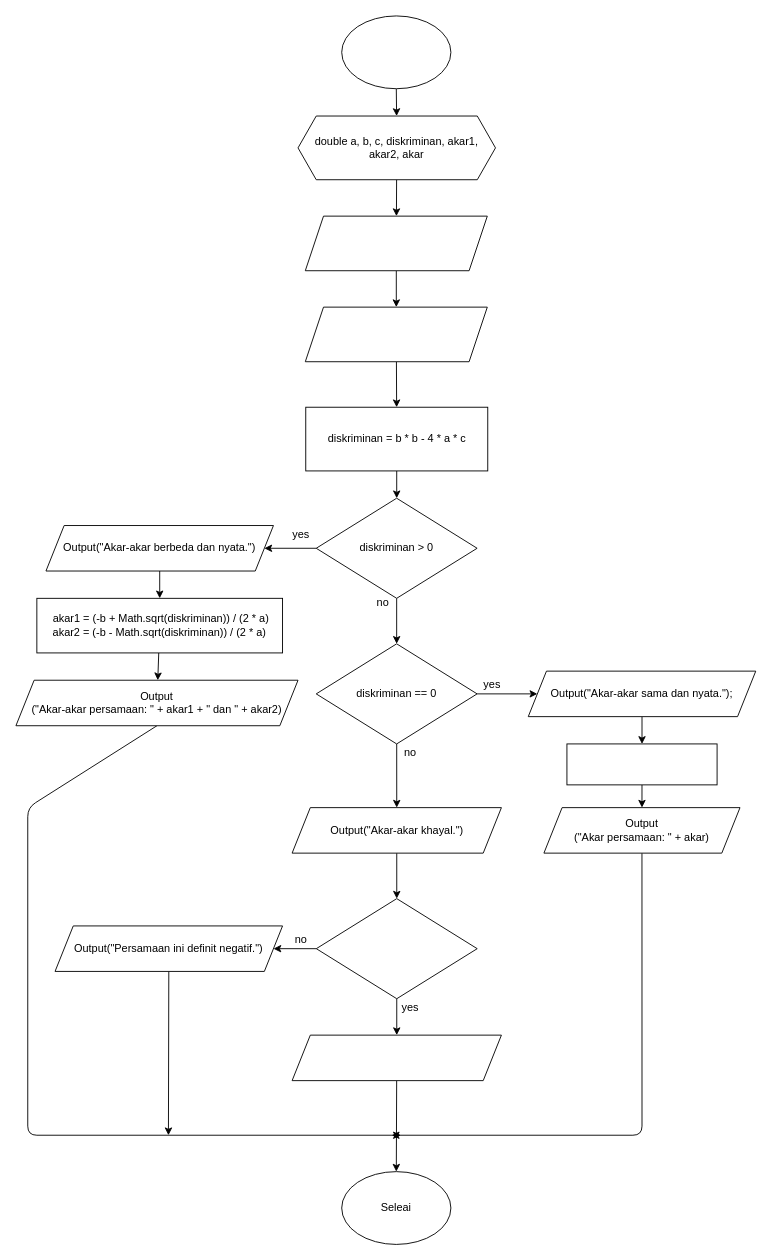
The diagram is 772 pixels wide and 1260 high, and some of its shapes have lost their labels. Here are the shapes that lost their labels. From the top down, the centre of each, then its label:
pixel 396 52: Mulai
pixel 395 243: Output("Masukkan nilai a,b,c")
pixel 395 334: Input(a,b,c)
pixel 641 764: akar = -b / (2 * a)
pixel 396 948: a > 0
pixel 396 1057: Output("Persamaan ini definit positif.")
